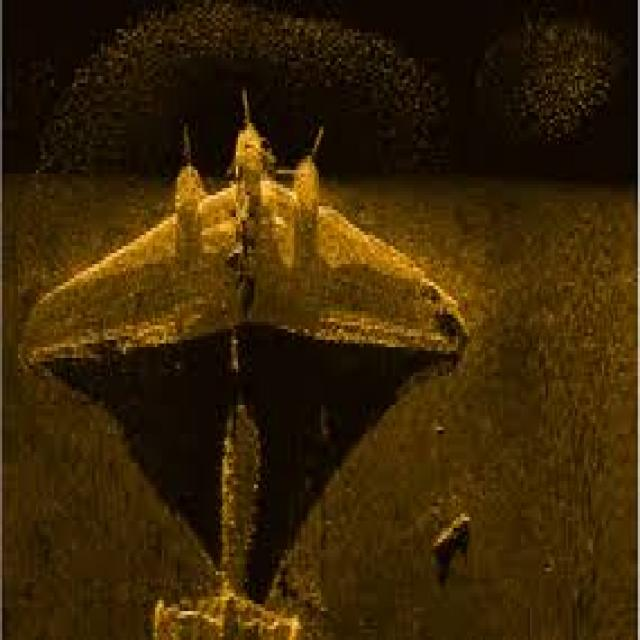plane: (5, 68, 476, 632)
